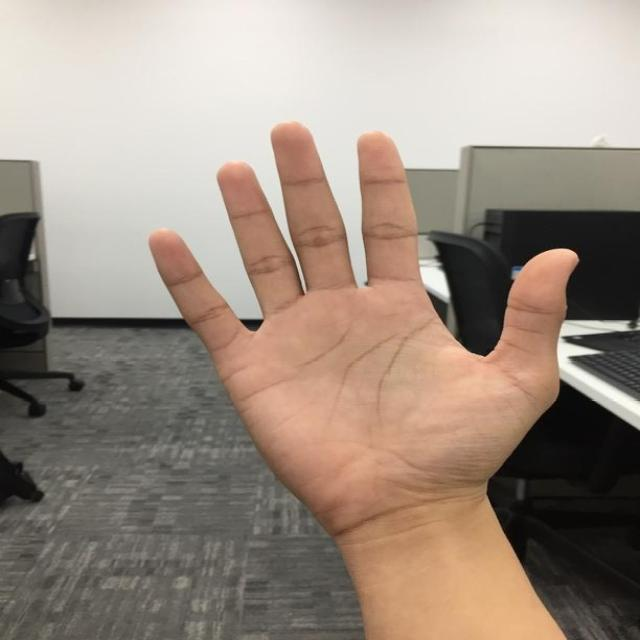hand: (145, 118, 584, 523)
